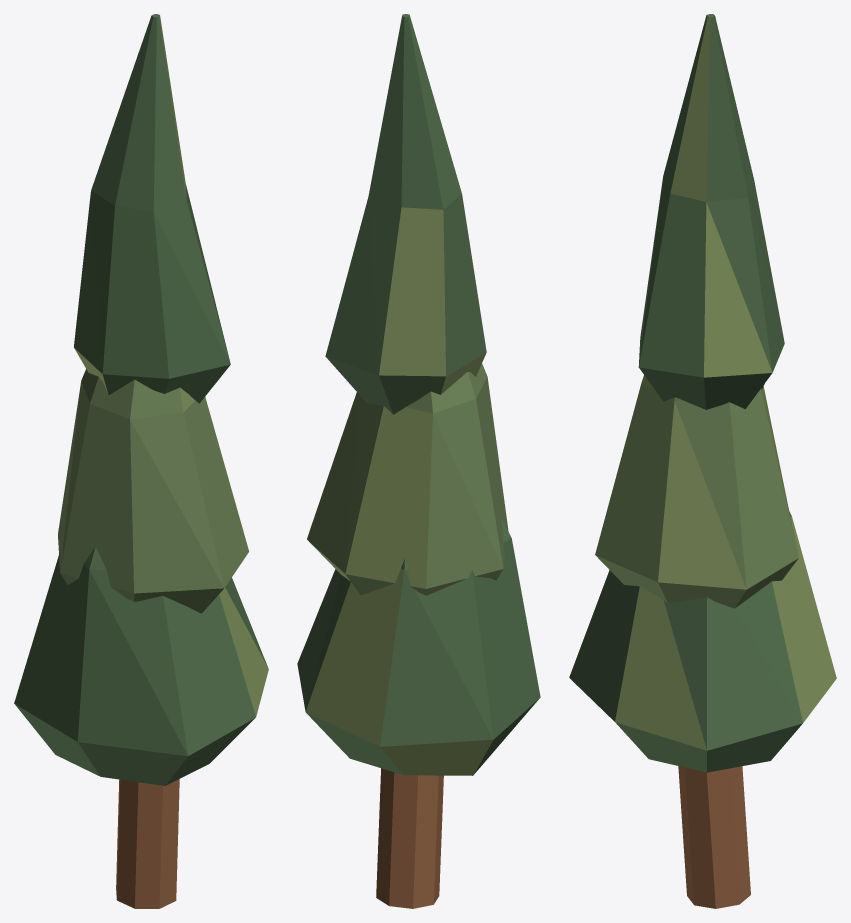
File: tree_cypress_v1530_01.glb
The picture shows the model from 3 angles, left to right: view 1: azimuth 30°, elevation 25°; view 2: azimuth 150°, elevation 25°; view 3: azimuth 270°, elevation 25°; orthographic projection.
Visible parts, largest first — view 1: tree_cypress_v1530_01; view 2: tree_cypress_v1530_01; view 3: tree_cypress_v1530_01.
Part boxes in pixels (x1,y1,x2,y2): tree_cypress_v1530_01: (14, 14, 268, 908); tree_cypress_v1530_01: (297, 14, 540, 908); tree_cypress_v1530_01: (569, 14, 836, 908).
Size of the model in its own units: 0.7364 by 2.75 by 0.754.
